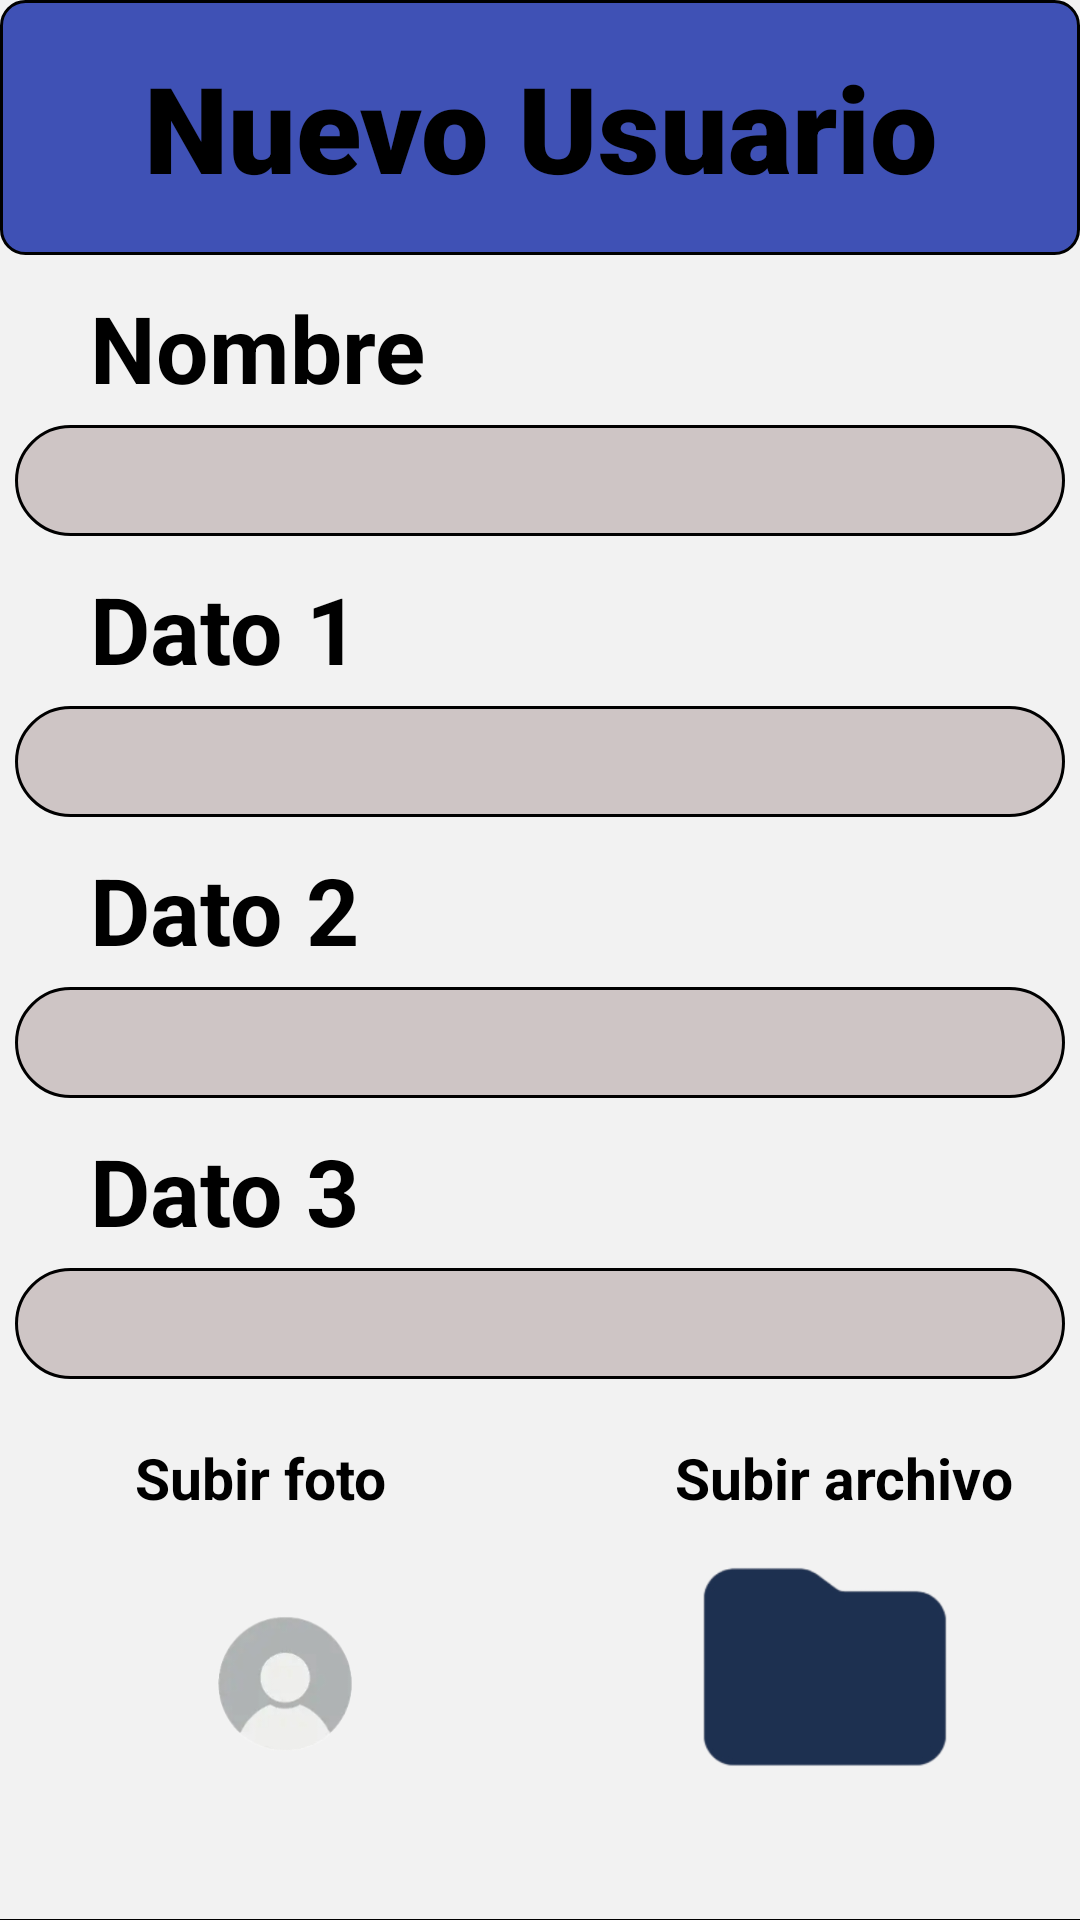

Where to tap for icons on this 1080w x 1920h app screen, as point (x, y):
folder: point (825, 1667)
iconoperfil: point (285, 1674)
